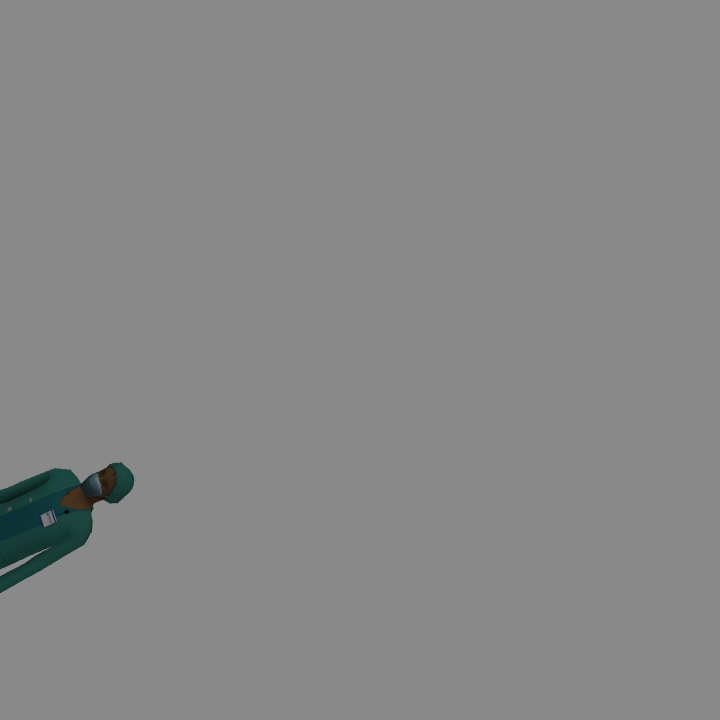victim: (1, 462, 133, 594)
